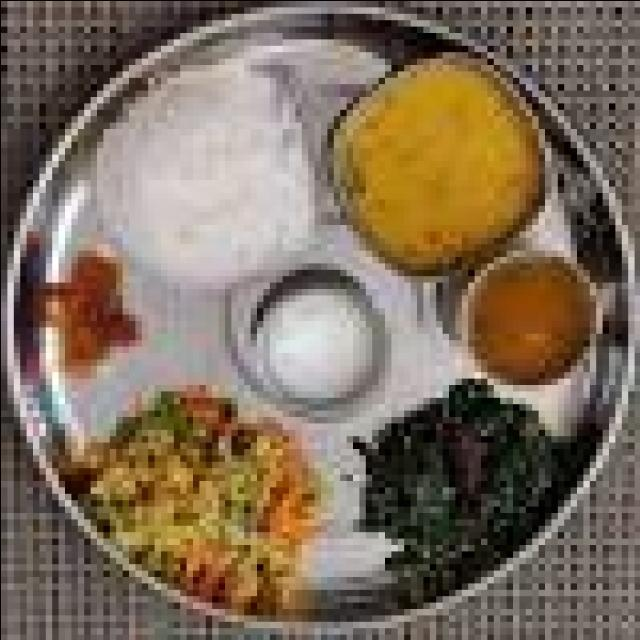curd: (235, 263, 401, 423)
dal: (337, 53, 540, 263)
pickle: (62, 242, 153, 363)
rice: (94, 61, 316, 267)
sambar-rasam: (451, 258, 604, 393)
veg-fry: (80, 397, 325, 593)
